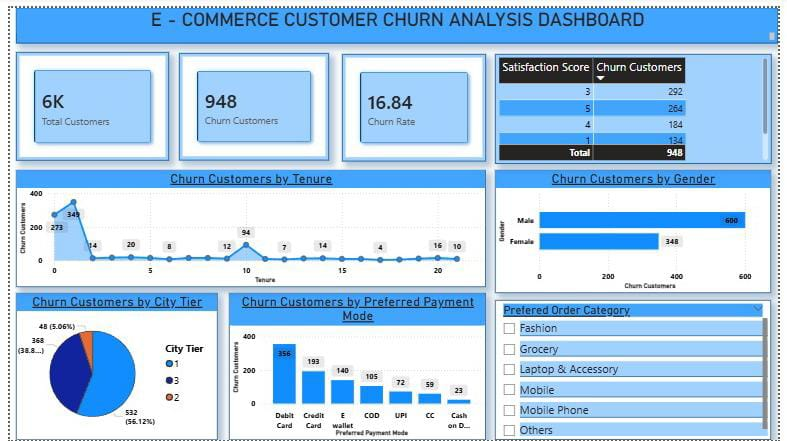

The page's visual inventory and layout, read from the dashboard file:
{"tool":"powerbi","page":{"name":"Page 1","canvas":[1280,720],"ordinal":0},"visuals":[{"type":"textbox","title":"E - COMMERCE CUSTOMER CHURN ANALYSIS DASHBOARD","box":[10.1,0,1269.9,58.8],"z":0},{"type":"cardVisual","fields":{"Data":["Table1.Churn Customers"]},"box":[281,74.6,250.2,178.5],"z":2000},{"type":"cardVisual","fields":{"Data":["Table1.Churn Rate"]},"box":[553.2,76.1,240,178.5],"z":3000},{"type":"clusteredBarChart","fields":{"Category":["Table1.Gender"],"Y":["Table1.Churn Customers"]},"box":[808,270.4,460.3,204.9],"z":4000},{"type":"pieChart","fields":{"Category":["Table1.City Tier"],"Y":["Table1.Churn Customers"]},"box":[10.1,475.4,336,245.2],"z":5000},{"type":"tableEx","fields":{"Values":["Table1.Satisfaction Score","Table1.Churn Customers"]},"box":[807.8,76.1,461,182.9],"z":6000},{"type":"columnChart","fields":{"Category":["Table1.Preferred Payment Mode"],"Y":["Table1.Churn Customers"]},"box":[364.5,475.4,428.3,245.2],"z":7000},{"type":"lineChart","fields":{"Category":["Table1.Tenure"],"Y":["Table1.Churn Customers"]},"box":[10.1,270.4,782.8,194.9],"z":8000},{"type":"slicer","fields":{"Values":["Table1.Prefered Order Category"]},"box":[808,487.1,460.3,233.5],"z":9000},{"type":"cardVisual","fields":{"Data":["Table1.Total Customers"]},"box":[10.1,73.9,255.3,181.4],"z":9500}]}

Visuals, with their boxes in screenshot pixels (x1, y1, x2, y2), scaled from the page's 1280x720 canvas onto the 787x441 screenshot:
"E - COMMERCE CUSTOMER CHURN ANALYSIS DASHBOARD" textbox: box=[6, 0, 786, 36]
cardVisual - Table1.Churn Customers: box=[173, 46, 327, 155]
cardVisual - Table1.Churn Rate: box=[340, 47, 488, 156]
clusteredBarChart - Table1.Gender x Table1.Churn Customers: box=[497, 166, 780, 291]
pieChart - Table1.City Tier x Table1.Churn Customers: box=[6, 291, 213, 440]
tableEx - Table1.Satisfaction Score x Table1.Churn Customers: box=[497, 47, 780, 159]
columnChart - Table1.Preferred Payment Mode x Table1.Churn Customers: box=[224, 291, 487, 440]
lineChart - Table1.Tenure x Table1.Churn Customers: box=[6, 166, 488, 285]
slicer - Table1.Prefered Order Category: box=[497, 298, 780, 440]
cardVisual - Table1.Total Customers: box=[6, 45, 163, 156]
